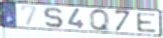4: (67, 8, 87, 30)
7: (19, 5, 40, 28), (114, 9, 133, 33)
E: (135, 13, 158, 34)
Q: (88, 8, 112, 33)
S: (42, 7, 65, 29)
